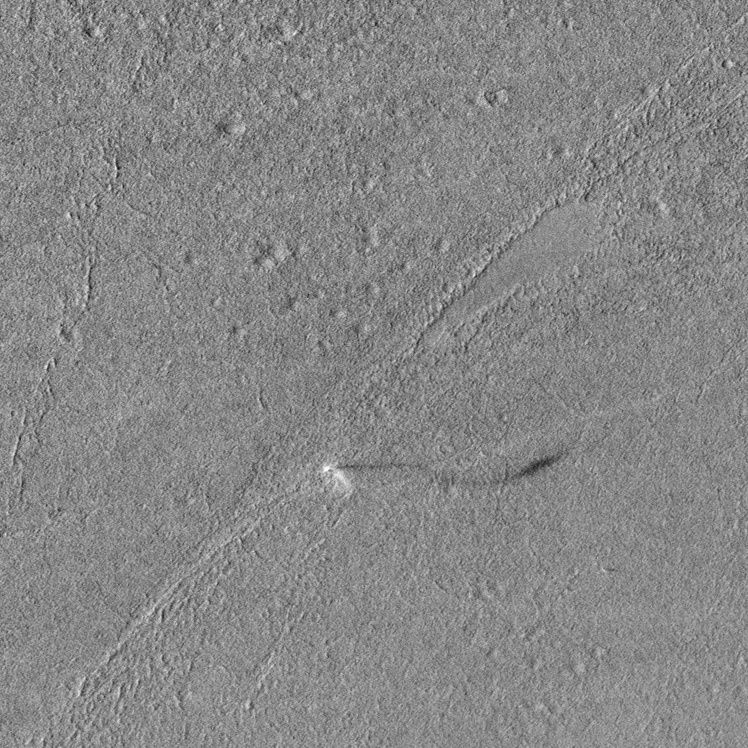dust_devil: (319, 452, 559, 495)
